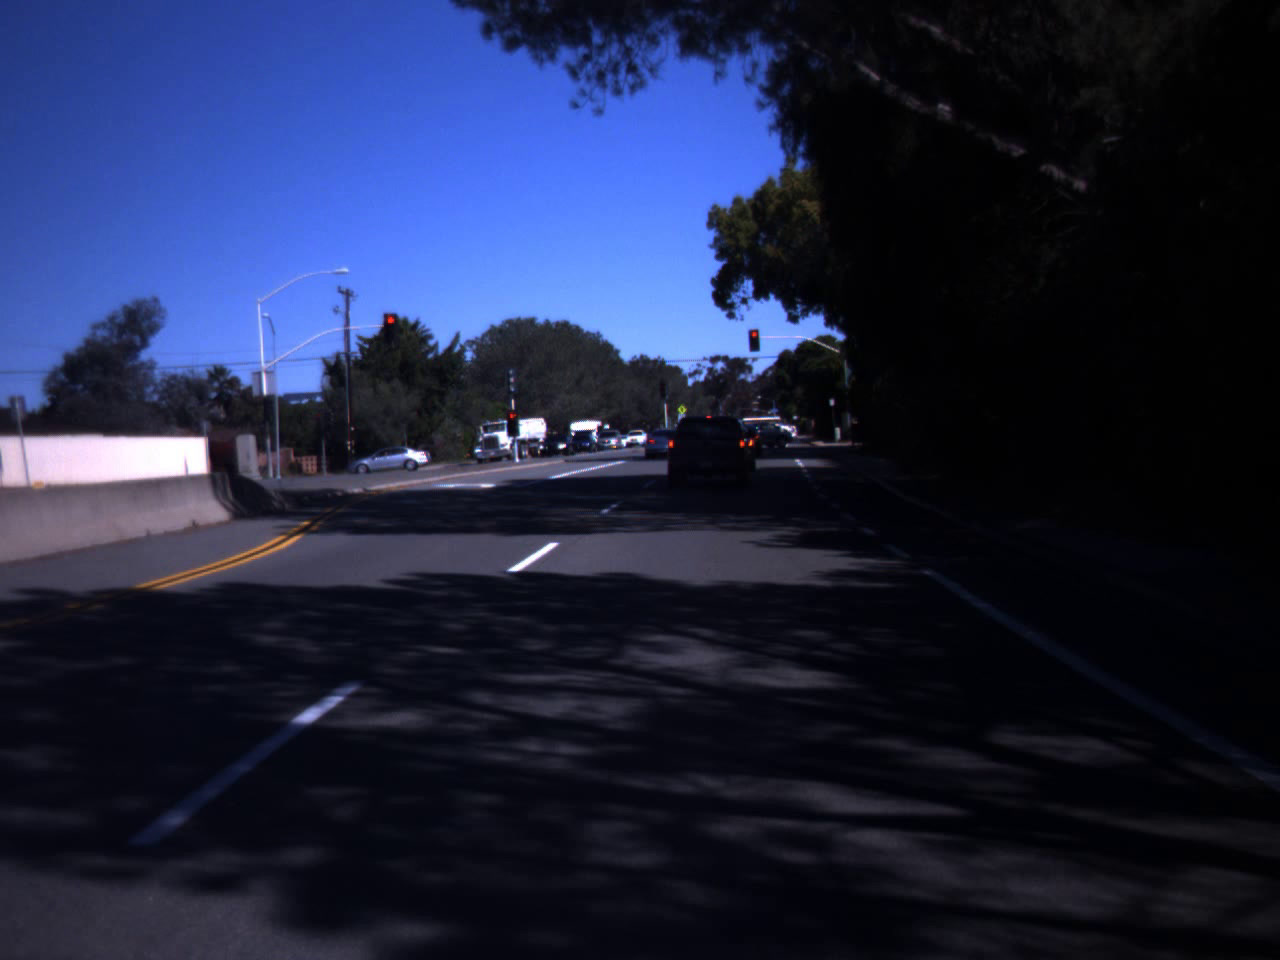stop: (746, 326, 764, 362), (382, 316, 400, 334), (506, 412, 518, 430)
